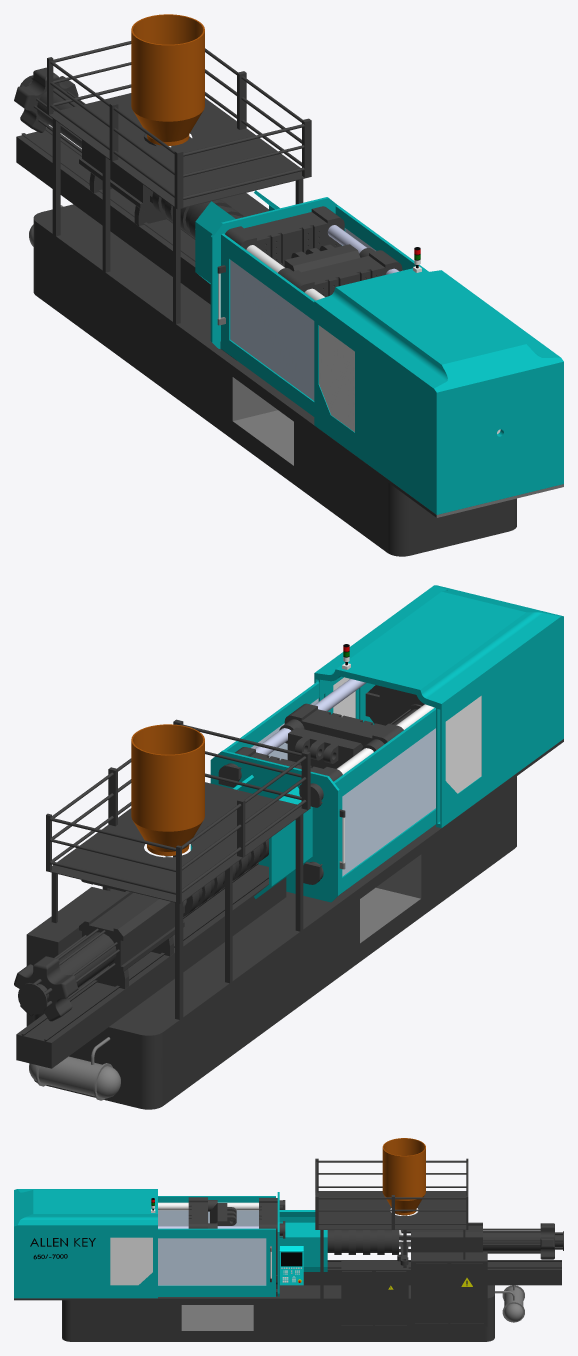
Rendered from MaquinaInyectora.fbx.
The picture shows the model from 3 angles, top to bottom: view 1: azimuth 30°, elevation 25°; view 2: azimuth 150°, elevation 25°; view 3: azimuth 270°, elevation 25°; orthographic projection. The views are drawn at different scales.
Visible parts, largest first — view 1: Cut-Extrude24, Mirror16, Cut-Extrude16, CirPattern3, Shell4, Boss-Extrude041, Cut-Extrude025, Mirror14, Mirror27, Boss-Extrude9, LPattern1, Cut-Extrude1; view 2: Mirror16, Cut-Extrude24, Cut-Extrude16, CirPattern3, Shell4, Mirror14, Boss-Extrude041, Mirror27, Cut-Extrude025, LPattern1, Boss-Extrude9, CirPattern1 (+3 smaller); view 3: Mirror16, Cut-Extrude24, Cut-Extrude16, CirPattern3, Boss-Extrude6, Cut-Extrude13[1], Cut-Extrude1, Shell4, Mirror14, Boss-Extrude7, Mirror27, Cut-Extrude15 (+4 smaller).
Part boxes in pixels (x1,y1,x2,y2): Cut-Extrude24: (314,266,563,514); Mirror16: (29,204,563,556); Cut-Extrude16: (47,41,311,323); CirPattern3: (14,67,243,304); Shell4: (131,14,204,145); Boss-Extrude041: (230,260,314,400); Cut-Extrude025: (217,233,315,416); Mirror14: (195,190,337,348); Mirror27: (278,244,402,297); Boss-Extrude9: (220,206,344,360); LPattern1: (319,325,354,431); Cut-Extrude1: (335,205,428,271); Mirror16: (29,739,563,1109); Cut-Extrude24: (314,585,563,828); Cut-Extrude16: (26,719,310,1026); CirPattern3: (14,839,286,1068); Shell4: (131,724,204,855); Mirror14: (210,750,339,902); Boss-Extrude041: (342,728,435,876); Mirror27: (279,703,403,768); Cut-Extrude025: (333,708,435,894); LPattern1: (445,695,481,793); Boss-Extrude9: (218,747,346,894); CirPattern1: (365,685,424,725); Mirror16: (14,1285,524,1341); Cut-Extrude24: (14,1189,157,1298); Cut-Extrude16: (315,1158,487,1326); CirPattern3: (303,1222,563,1285); Boss-Extrude6: (158,1238,266,1285); Cut-Extrude13[1]: (341,1261,408,1326); Cut-Extrude1: (158,1228,275,1296); Shell4: (382,1138,425,1215); Mirror14: (277,1192,327,1296); Boss-Extrude7: (110,1237,152,1285); Mirror27: (188,1197,236,1228); Cut-Extrude15: (279,1246,303,1285).
Bounding box in the file's own units: 85.05 × 160 × 452.
